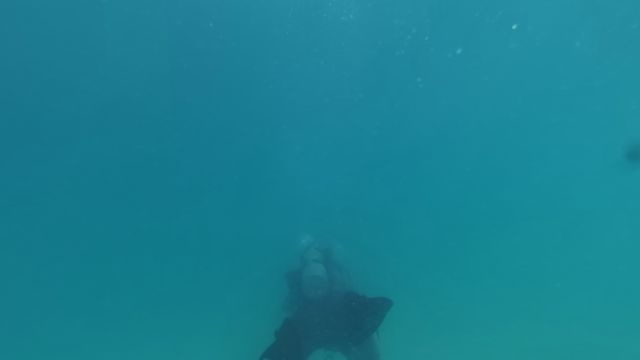Diver: (260, 235, 396, 358)
